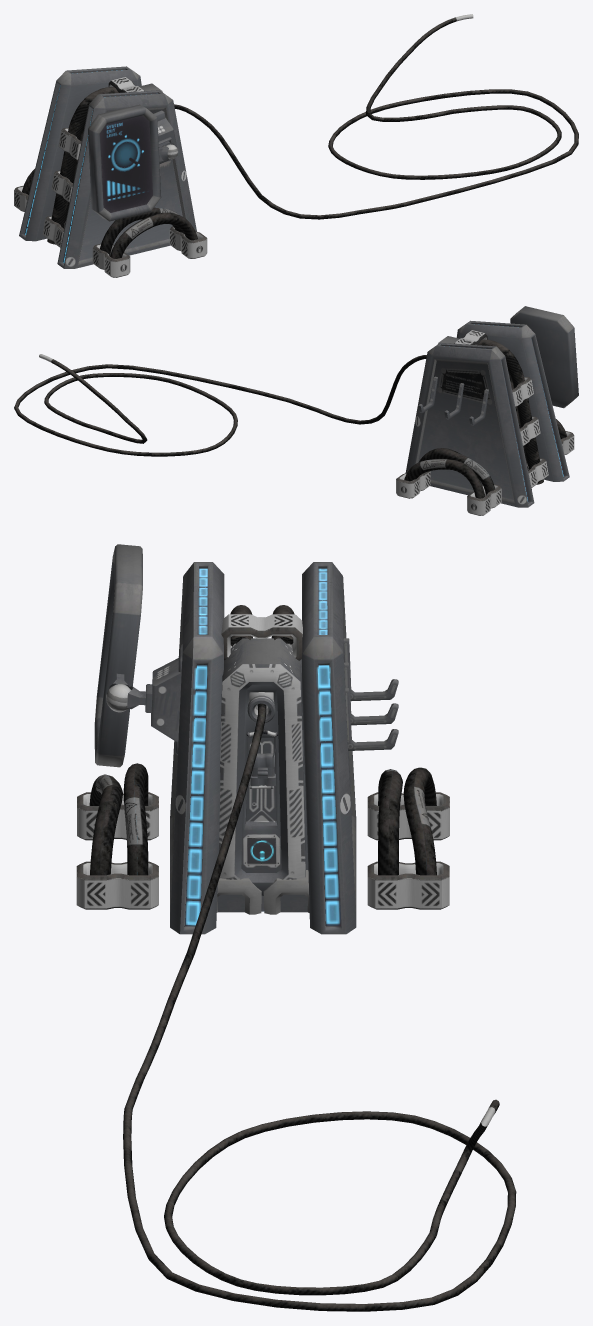
The model's file is Sifi-new.fbx.
3 views of the same model, one above another, from view 1: azimuth 30°, elevation 25°; view 2: azimuth 150°, elevation 25°; view 3: azimuth 270°, elevation 25° (orthographic). The views are drawn at different scales.
Visible parts, largest first — view 1: body_low, pivotscreen_low, wireport_low; view 2: body_low, pivotscreen_low, wireport_low; view 3: body_low, wireport_low, pivotscreen_low.
Boxes of the visible parts, x1,y1,x2,y2 form: body_low: (19, 66, 197, 268); pivotscreen_low: (14, 77, 207, 277); wireport_low: (139, 14, 578, 219); body_low: (404, 320, 569, 507); pivotscreen_low: (396, 306, 578, 515); wireport_low: (14, 336, 459, 456); body_low: (89, 562, 436, 934); wireport_low: (123, 638, 516, 1311); pivotscreen_low: (76, 544, 449, 914).
Bounding box in the file's own units: 27787 × 8095 × 10593.
3 materials, 3 textured.
